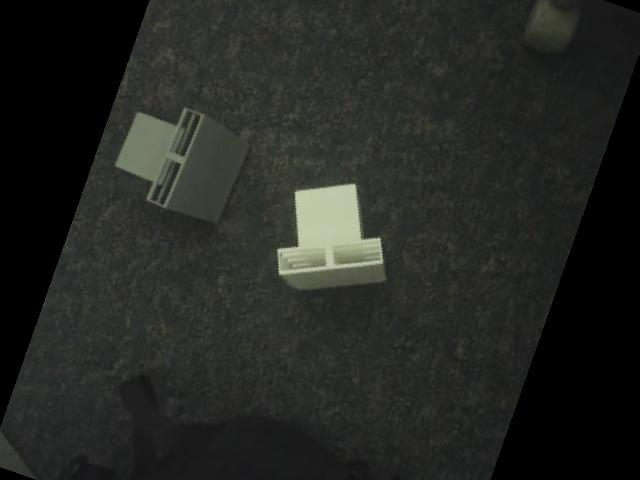grey pallet: (106, 98, 257, 226)
white pallet: (265, 183, 400, 297)
